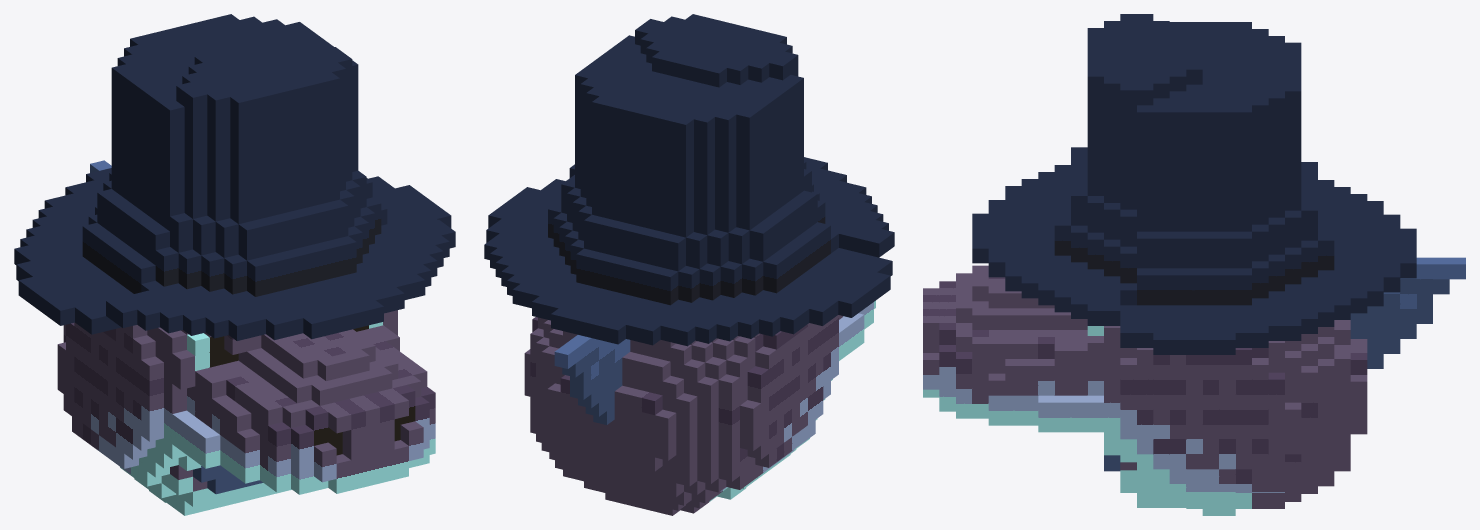
Rendered from top hat_cool dude glasses.gltf.
3 views of the same model, side by side, from view 1: azimuth 30°, elevation 25°; view 2: azimuth 150°, elevation 25°; view 3: azimuth 270°, elevation 25° (orthographic). The views are drawn at different scales.
Parts seen in each view (by area): view 1: C53_H_TopH_CoolD_3D_RBShade-Mesh; view 2: C53_H_TopH_CoolD_3D_RBShade-Mesh; view 3: C53_H_TopH_CoolD_3D_RBShade-Mesh.
Part boxes in pixels (x1,y1,x2,y2): C53_H_TopH_CoolD_3D_RBShade-Mesh: (14, 14, 455, 515); C53_H_TopH_CoolD_3D_RBShade-Mesh: (484, 14, 894, 515); C53_H_TopH_CoolD_3D_RBShade-Mesh: (923, 14, 1465, 515).
Size of the model in its own units: 27 by 29 by 33.
1 material, 1 textured.
